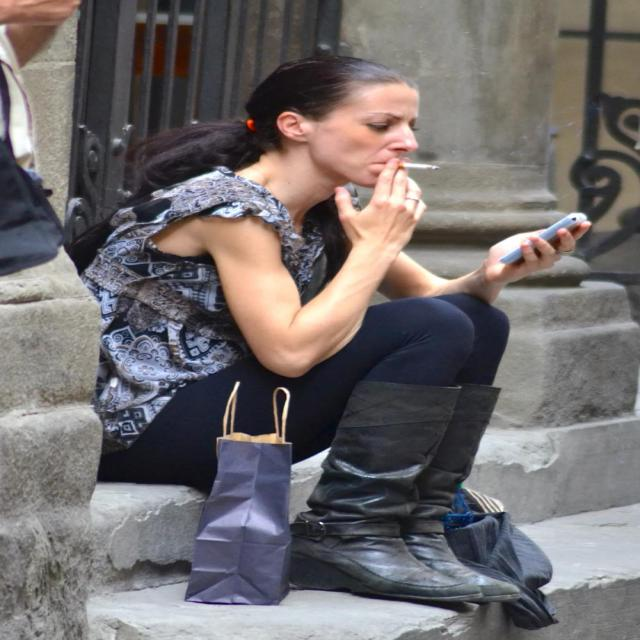cigarette: (370, 152, 480, 196)
